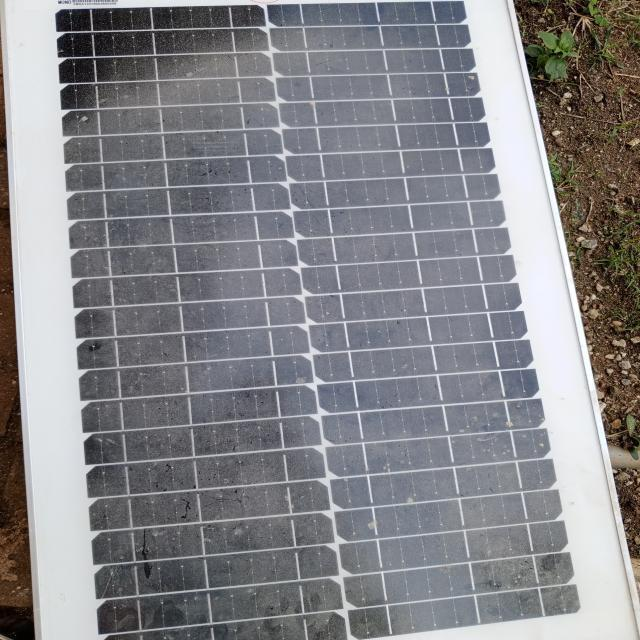Anomaly Solar Panel: (42, 0, 584, 639)
Surface Contaminant: (56, 5, 492, 639)
